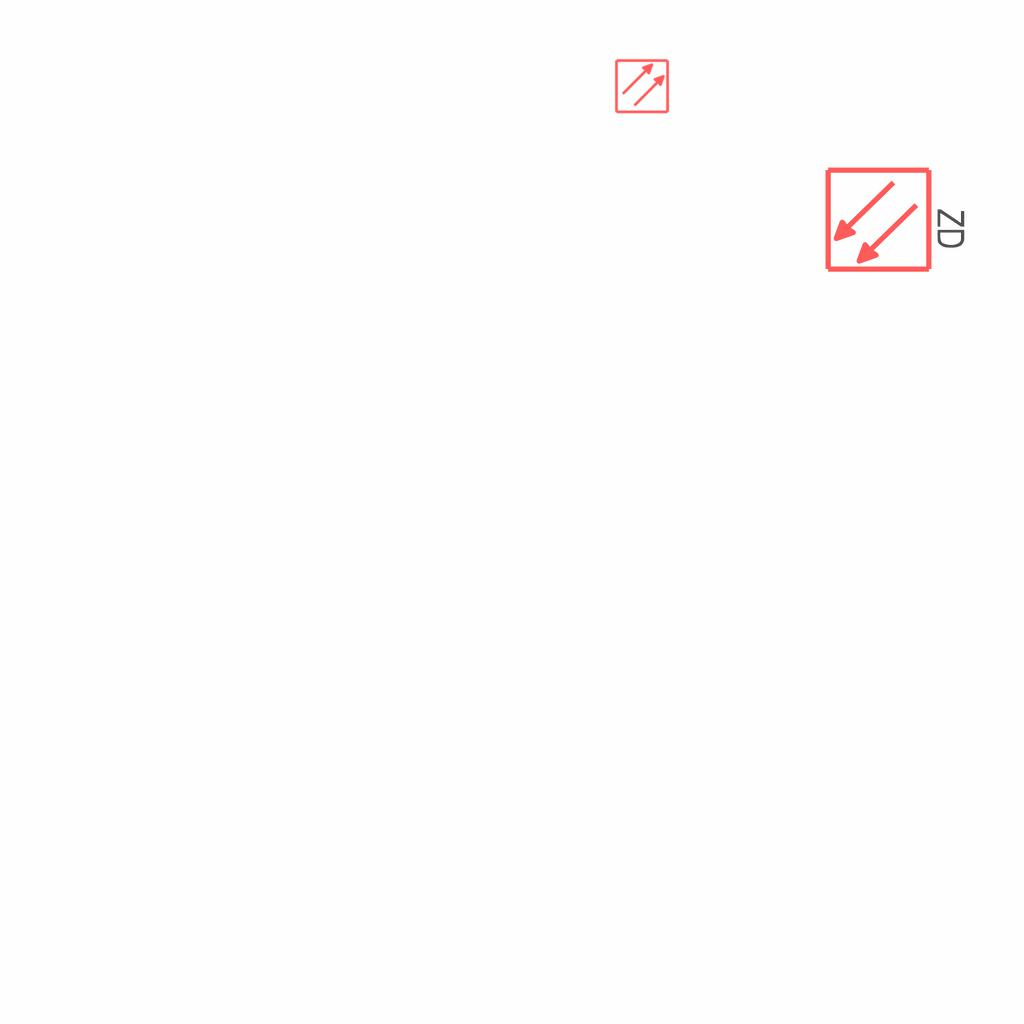RMO_Rauchmelder_optischer: (614, 58, 670, 114)
ZD_Melder_in_Zwischendecke_mit_Revisionsoeffnung_mind_40_x_40_cm: (823, 161, 972, 275)
